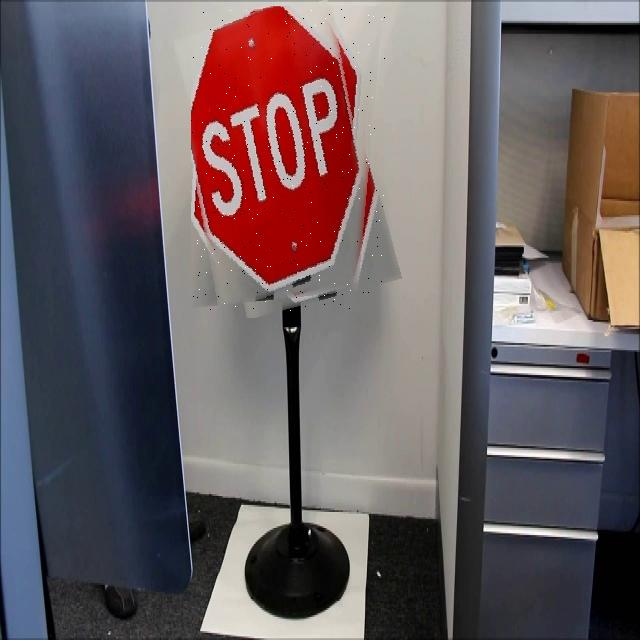stop: (191, 6, 385, 311)
